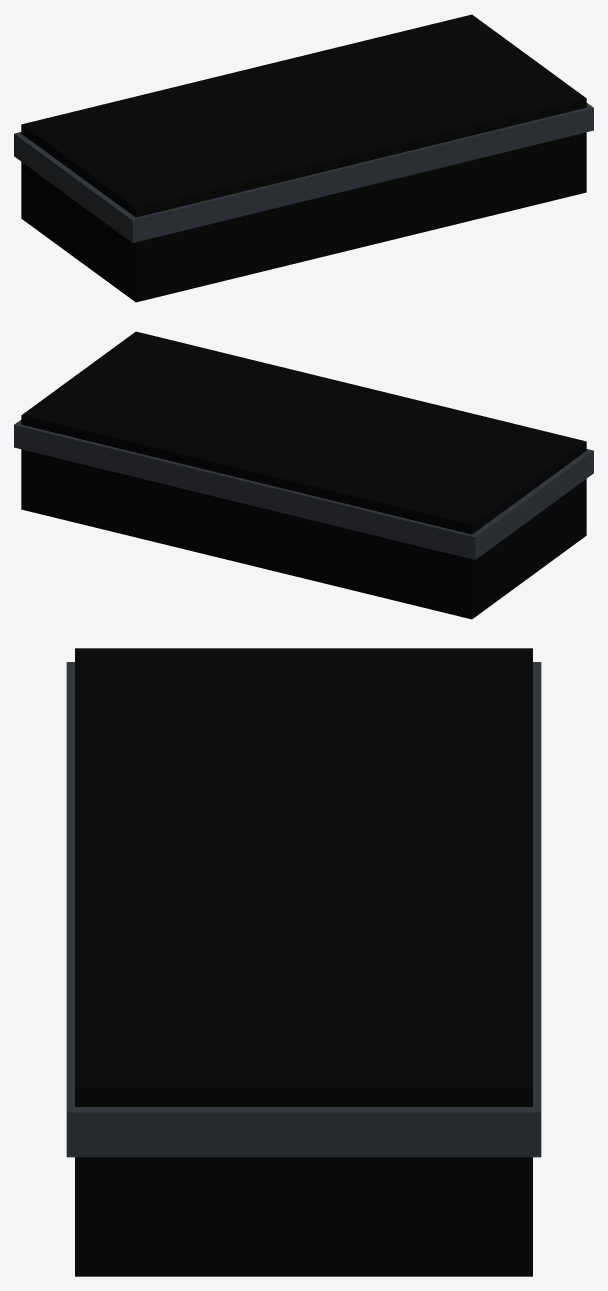
The model's file is inf_driver_lower_torso.fbx.
3 renders of one model, top to bottom at view 1: azimuth 30°, elevation 25°; view 2: azimuth 150°, elevation 25°; view 3: azimuth 270°, elevation 25°, orthographic. The views are drawn at different scales.
Parts seen in each view (by area): view 1: inf_driver_lower_torso; view 2: inf_driver_lower_torso; view 3: inf_driver_lower_torso.
Boxes of the visible parts, <box> form: inf_driver_lower_torso: <box>14,14,593,302</box>; inf_driver_lower_torso: <box>14,331,593,619</box>; inf_driver_lower_torso: <box>66,648,541,1276</box>.
Size of the model in its own units: 256 by 50 by 114.
